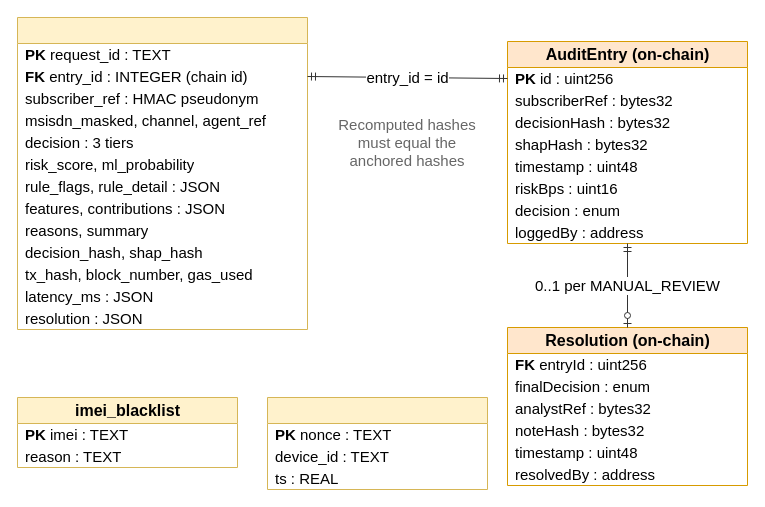
Some shapes in this 765 by 507 pixel diagram are drawn without their labels. The box of each missing label's shape, as (x1, y1, x2, y2) in pixels:
decisions (SQLite, off-chain): (16, 16, 308, 330)
used_nonces: (266, 396, 488, 490)
